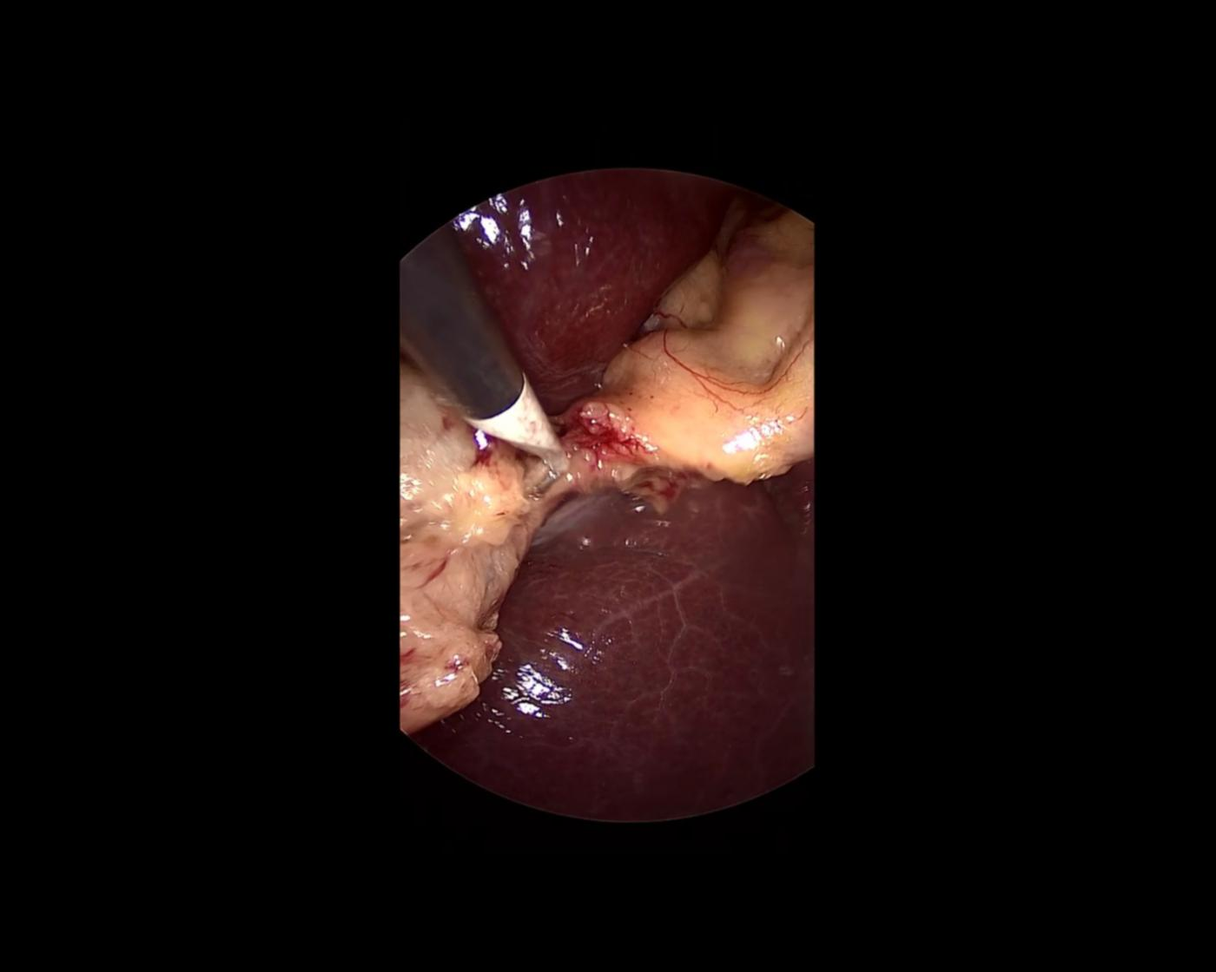Cautery: (360, 224, 567, 499)
Gallbladder: (398, 351, 530, 738)
Liver: (410, 460, 818, 824), (443, 92, 795, 420)
